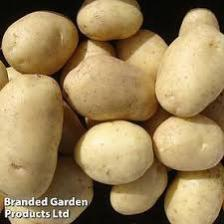Potato: (0, 73, 68, 204), (56, 47, 161, 127), (156, 9, 224, 118), (69, 119, 156, 188), (0, 5, 79, 73), (150, 112, 224, 174), (74, 0, 148, 38)
